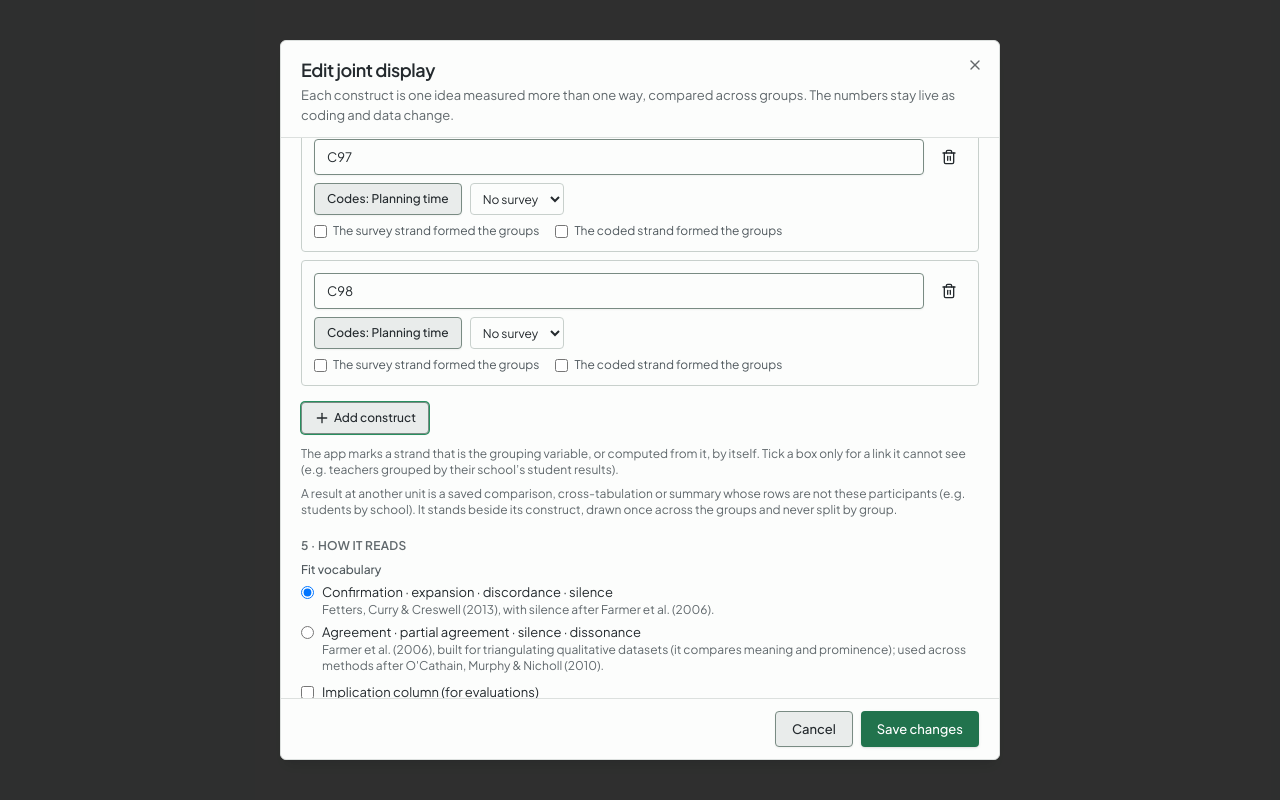
Test case: #1644 review — the builder mirrors the server where a person can reach its bound › the build (2026-11-15d): the press that reaches a cap lands focus on the new construct’s name — below it, focus stays
The image size is (1280, 800).
(page scrolled)
Click the button "Add construct".
click(365, 418)  # box [301, 402, 429, 434]
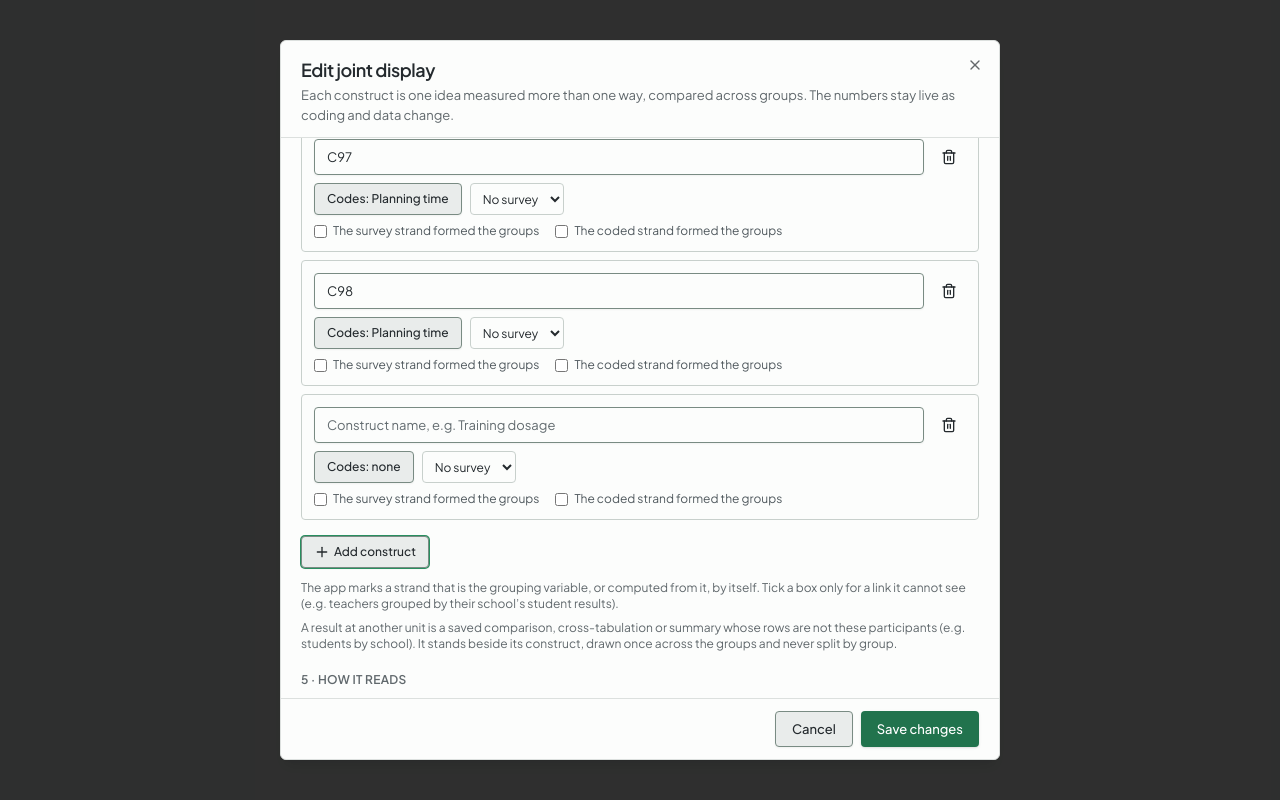
Click the button "Add construct".
click(365, 552)  # box [301, 536, 429, 568]
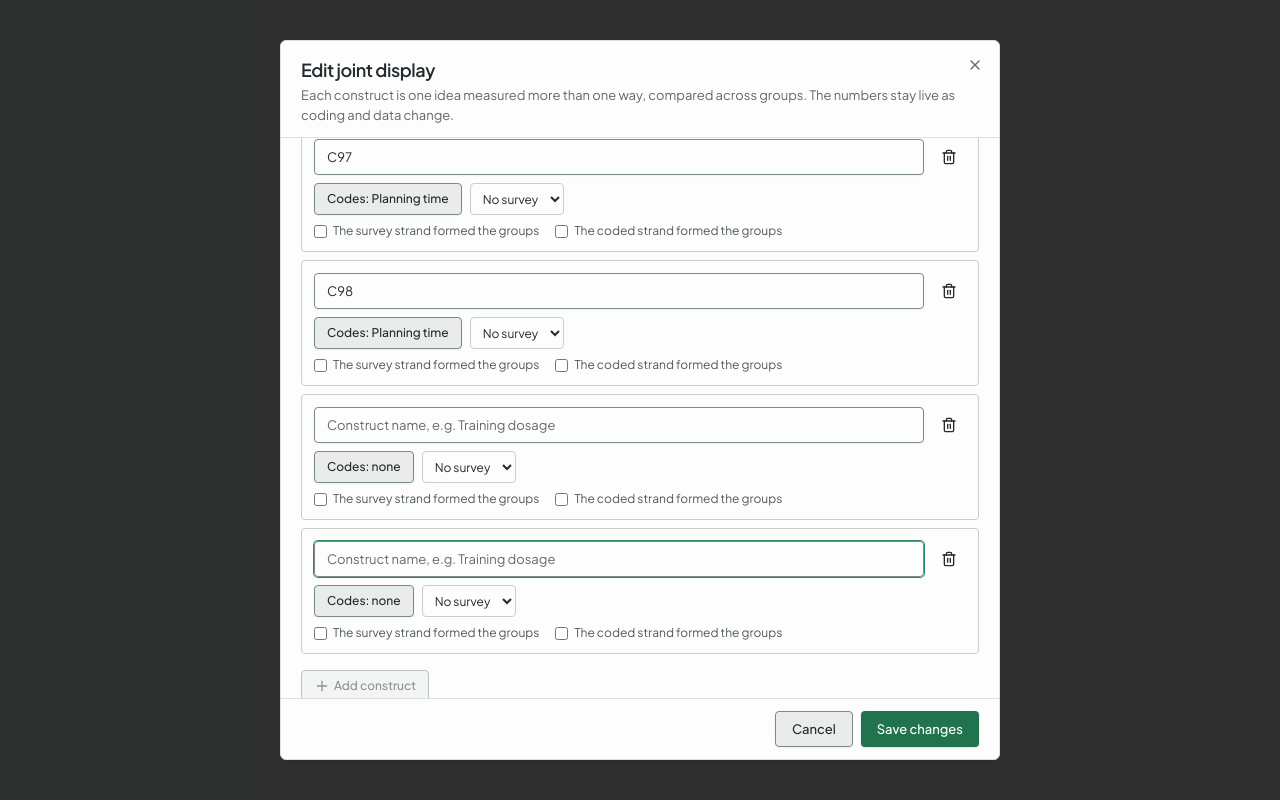
Now the button "Add construct" is disabled, box [301, 670, 429, 698]
